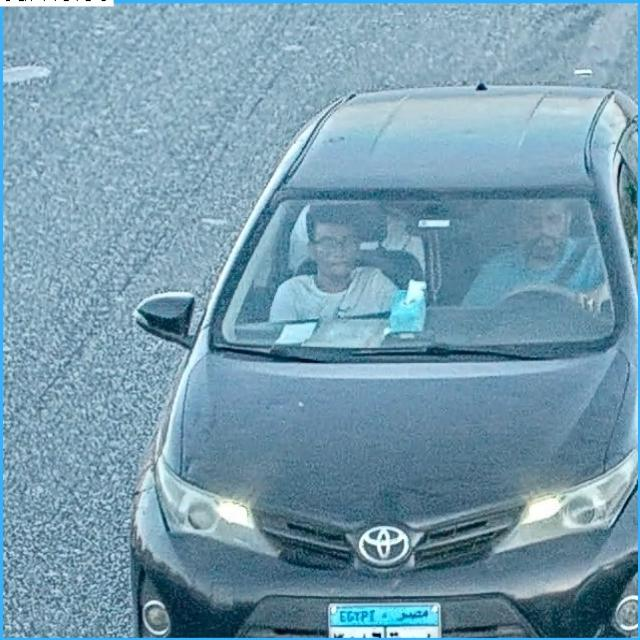windshield: (211, 196, 612, 354)
